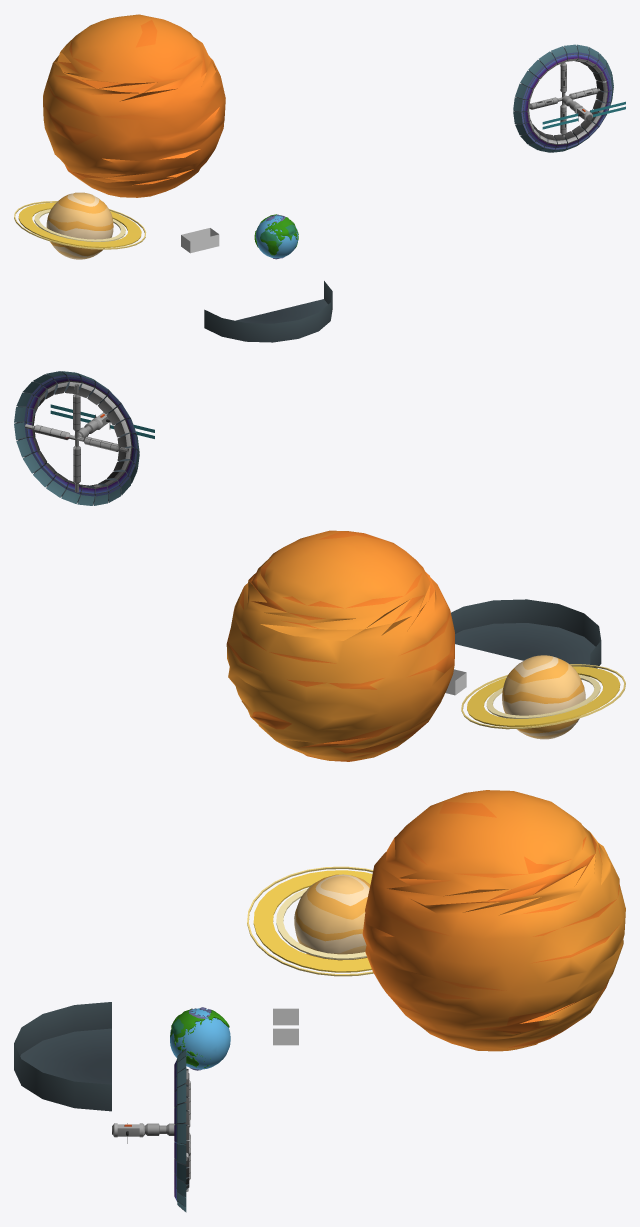
File: assets_t2_a5.fbx
The picture shows the model from 3 angles, top to bottom: view 1: azimuth 30°, elevation 25°; view 2: azimuth 150°, elevation 25°; view 3: azimuth 270°, elevation 25°; orthographic projection. The views are drawn at different scales.
Visible parts, largest first — view 1: hanhtinh1, Cylinder, hanhtinh2, Ground, traidat, godray; view 2: hanhtinh1, Cylinder, hanhtinh2, Ground; view 3: hanhtinh1, hanhtinh2, Ground, Cylinder, traidat, godray.
Part boxes in pixels (x1=…): hanhtinh1: x1=43, y1=14, x2=225, y2=197; Cylinder: x1=513, y1=44, x2=625, y2=152; hanhtinh2: x1=14, y1=192, x2=146, y2=259; Ground: x1=204, y1=281, x2=332, y2=342; traidat: x1=254, y1=214, x2=298, y2=259; godray: x1=181, y1=228, x2=219, y2=253; hanhtinh1: x1=226, y1=530, x2=454, y2=761; Cylinder: x1=14, y1=371, x2=154, y2=505; hanhtinh2: x1=461, y1=655, x2=625, y2=739; Ground: x1=451, y1=599, x2=601, y2=676; hanhtinh1: x1=362, y1=790, x2=625, y2=1051; hanhtinh2: x1=247, y1=866, x2=373, y2=976; Ground: x1=14, y1=1002, x2=111, y2=1111; Cylinder: x1=112, y1=1048, x2=190, y2=1212; traidat: x1=170, y1=1007, x2=230, y2=1070; godray: x1=273, y1=1008, x2=298, y2=1045.
Bounding box in the file's own units: 725 × 247 × 504.
